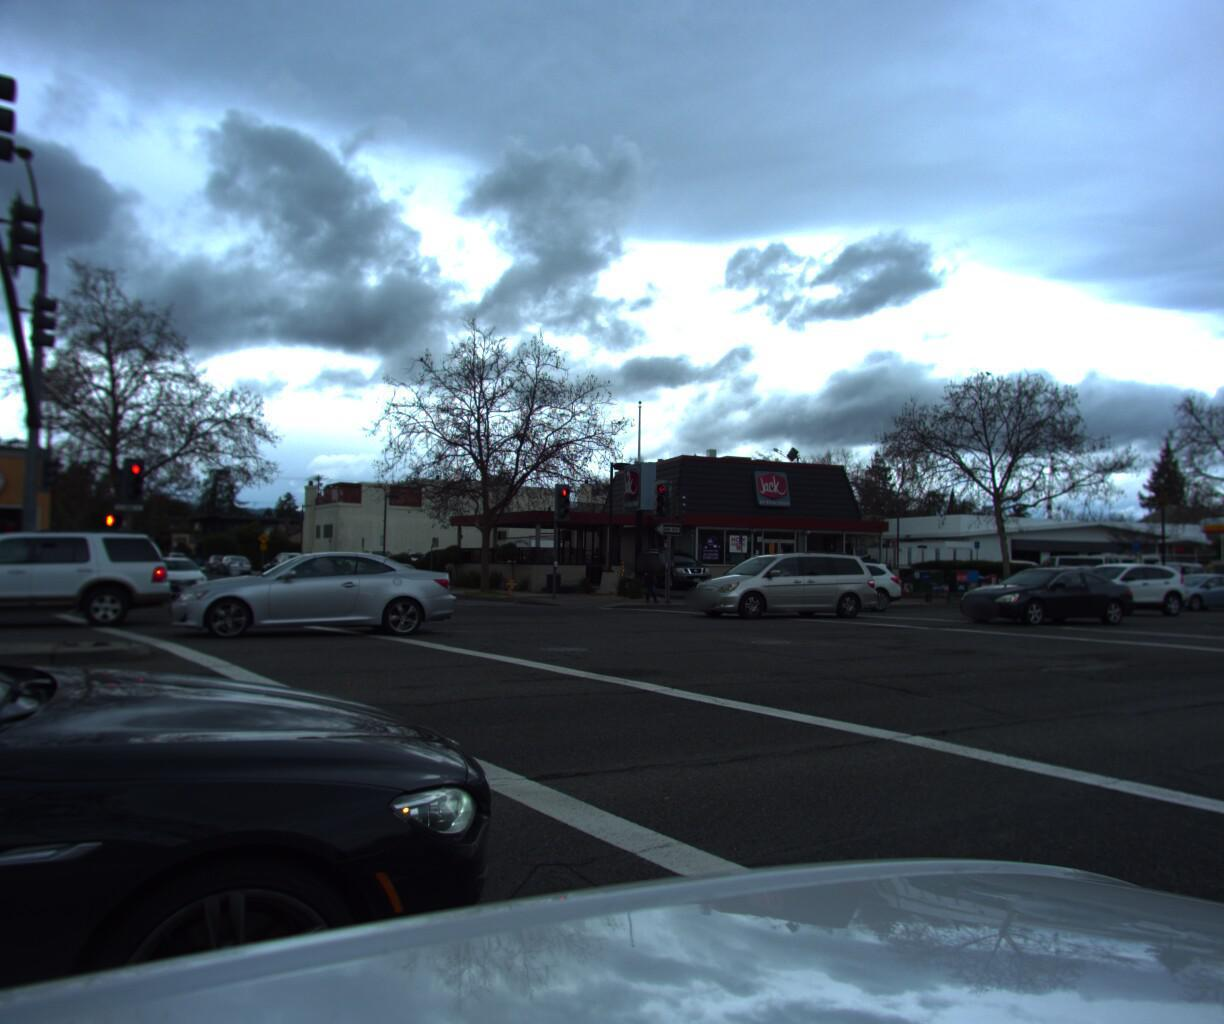car: (0, 422, 582, 1024), (164, 546, 471, 649), (0, 518, 184, 633), (677, 549, 888, 620), (943, 562, 1143, 625), (1052, 553, 1207, 613), (802, 550, 957, 608), (137, 553, 219, 601), (1021, 548, 1124, 585), (1142, 566, 1224, 612), (632, 543, 718, 587), (1140, 555, 1224, 593), (261, 550, 324, 588), (1189, 552, 1224, 595), (350, 547, 406, 570), (1024, 540, 1086, 560), (212, 555, 257, 577), (155, 549, 194, 569)
other_vehicle: (1062, 546, 1165, 583)
